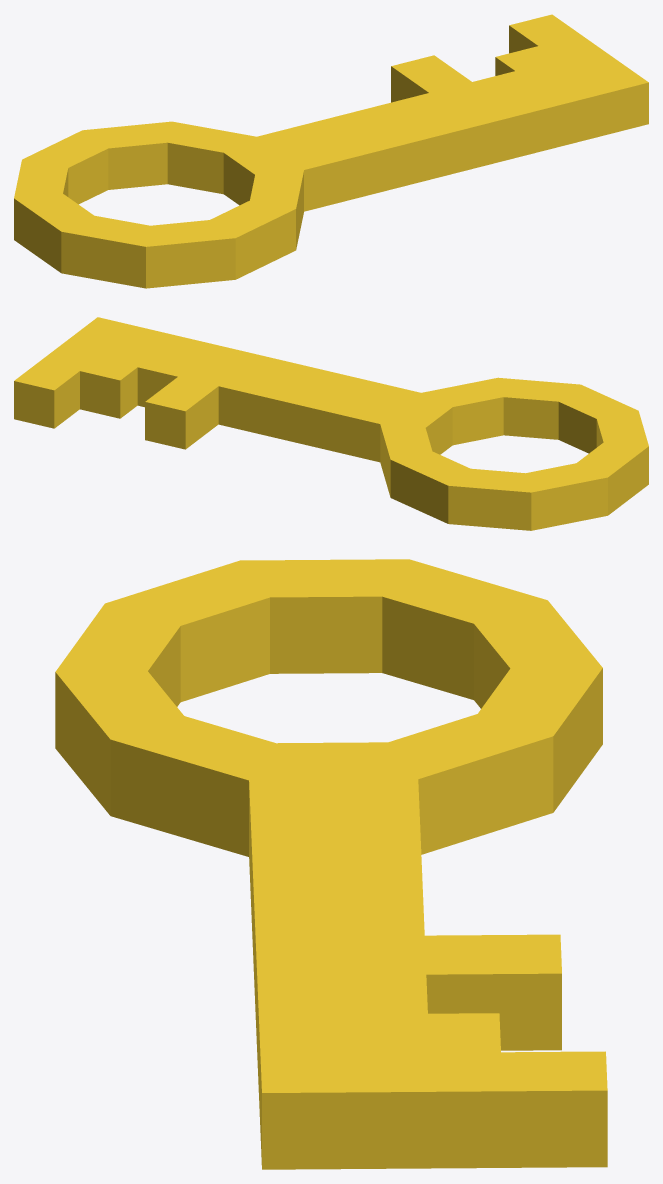
The model's file is key01.gltf.
The picture shows the model from 3 angles, top to bottom: view 1: azimuth 30°, elevation 25°; view 2: azimuth 150°, elevation 25°; view 3: azimuth 270°, elevation 25°; orthographic projection. The views are drawn at different scales.
Visible parts, largest first — view 1: Cylinder; view 2: Cylinder; view 3: Cylinder.
Part boxes in pixels (x1,y1,x2,y2): Cylinder: [14, 14, 648, 288]; Cylinder: [14, 317, 648, 530]; Cylinder: [55, 559, 607, 1169].
Bounding box in the file's own units: 0.1228 × 0.00822 × 0.0537.
1 material, 1 textured.
